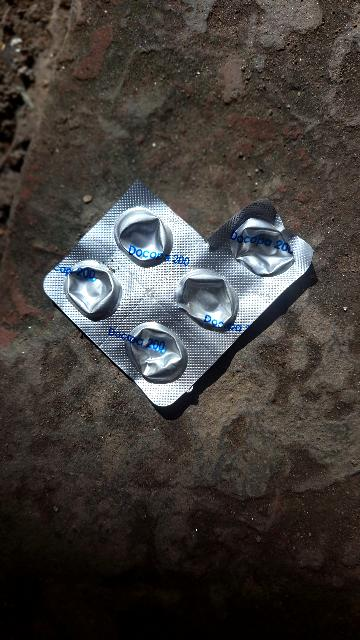medicine: (44, 179, 321, 412)
